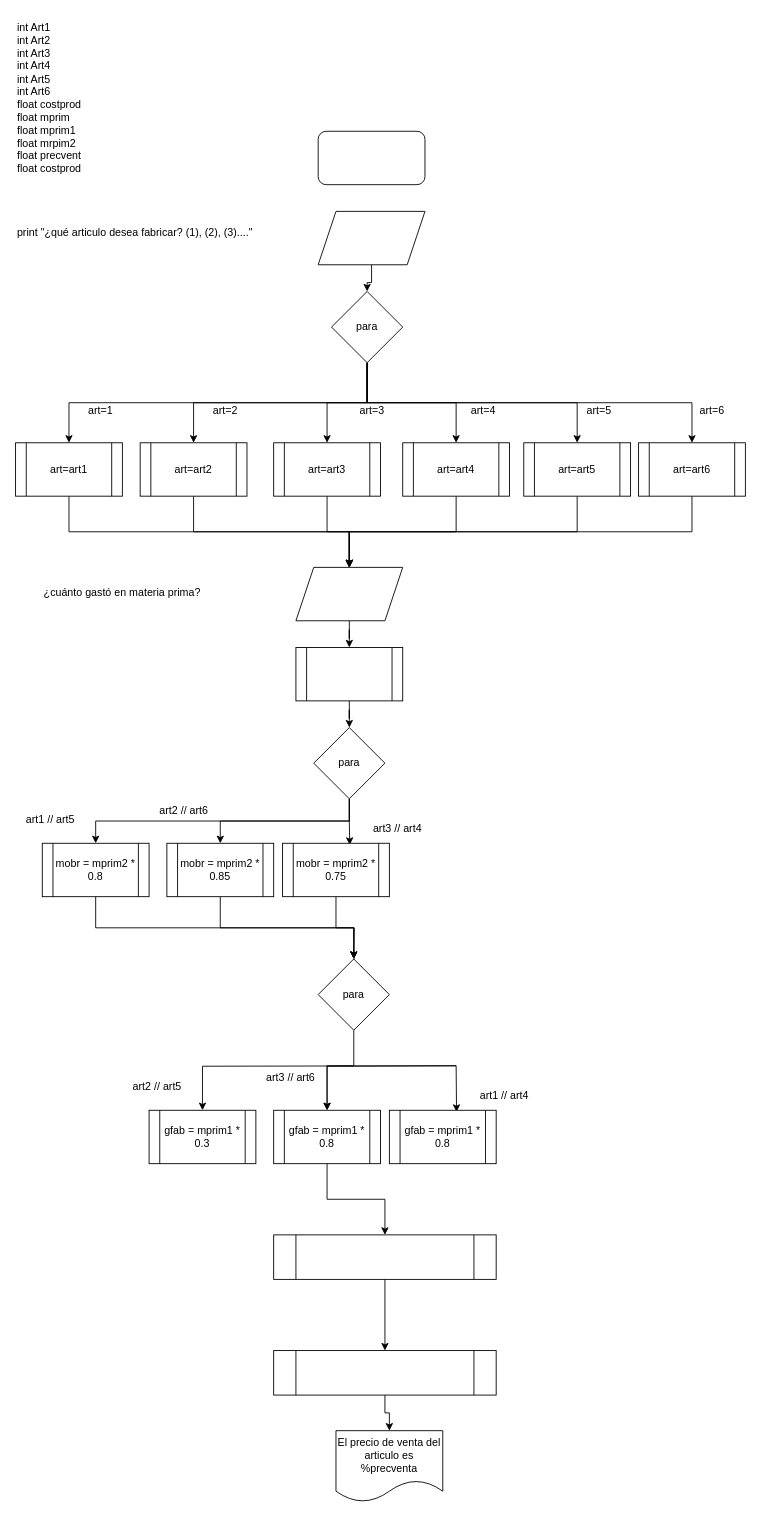
The diagram is 761 pixels wide and 1517 high, and some of its shapes have lost their labels. The shapes that lost their labels are listed below. From the top down, each one's centre as x and y in pixels, then its label:
At (371,157): "inicio".
At (371,237): "art".
At (349,593): "mprim".
At (349,674): "mprim=mprim1 mprim=mprim2".
At (384,1256): "costprod=mprim+mprim1+mprim2".
At (384,1372): "precvent=costprod + costprod * 0.45".
